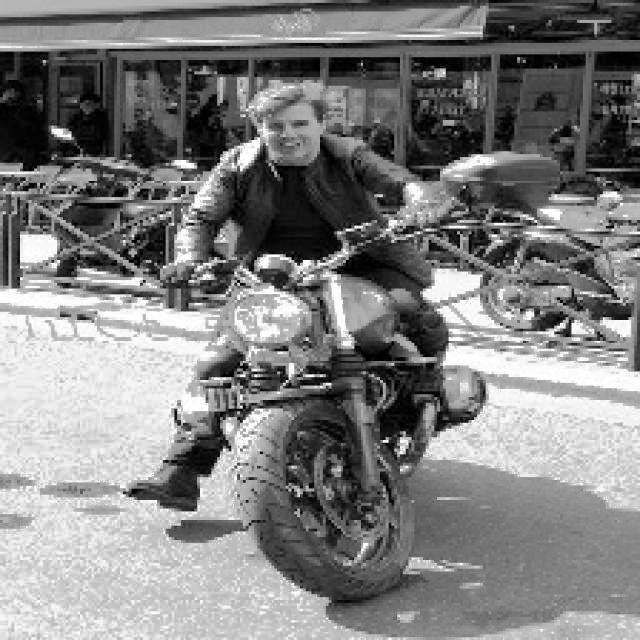Bike: (198, 254, 450, 604)
